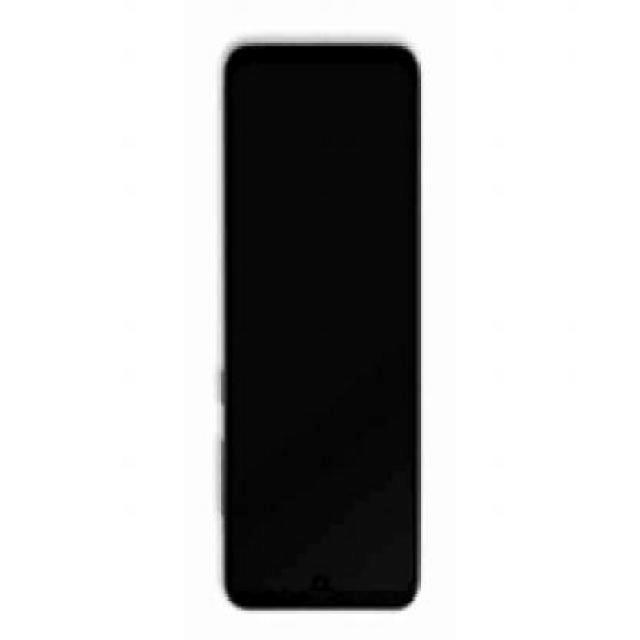fake: (222, 43, 422, 611)
